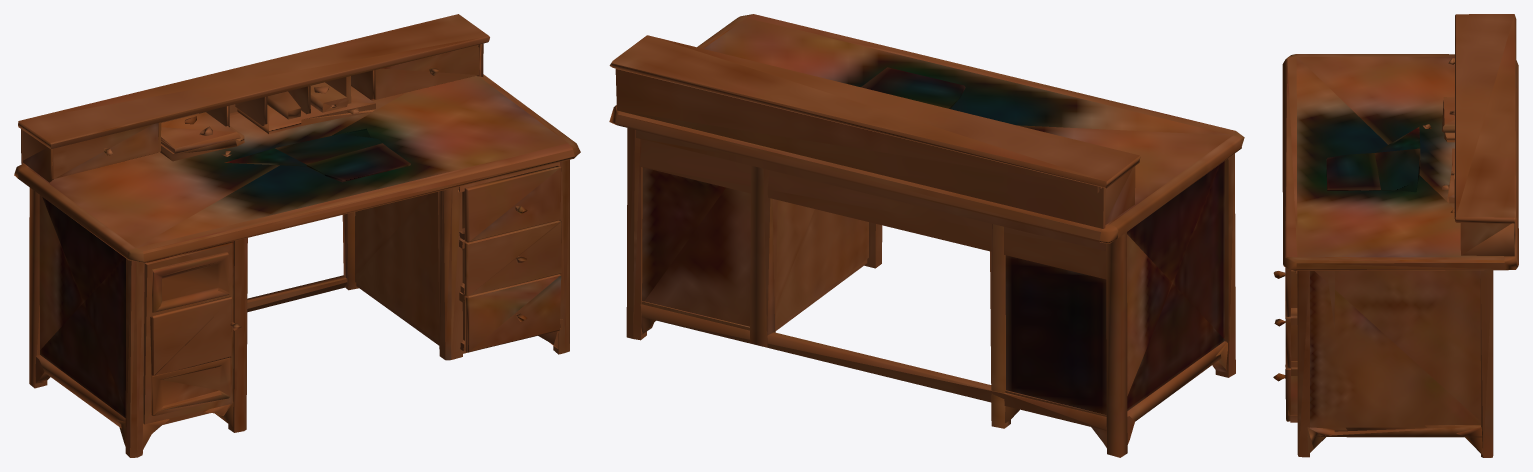
File: desk.lod1.glb
3 views of the same model, side by side, from view 1: azimuth 30°, elevation 25°; view 2: azimuth 150°, elevation 25°; view 3: azimuth 270°, elevation 25° (orthographic). The views are drawn at different scales.
Size of the model in its own units: 1.4 by 0.759 by 0.7.
1 material, 1 textured.
